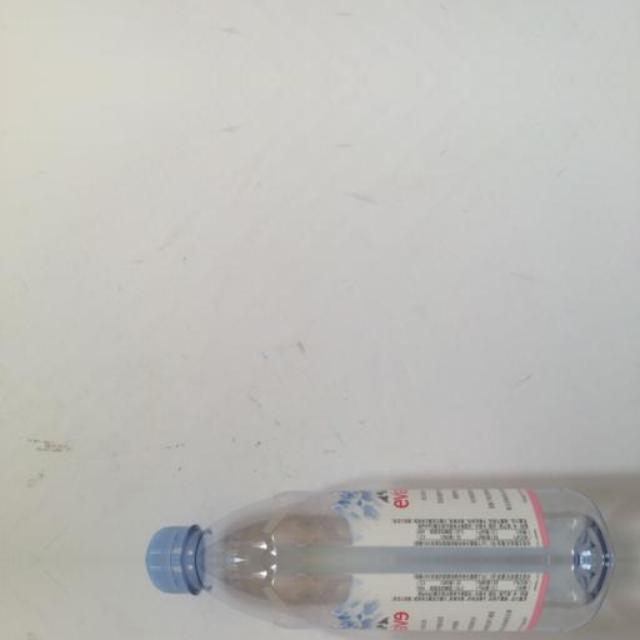Plastic: (122, 478, 616, 560), (122, 560, 616, 640)
